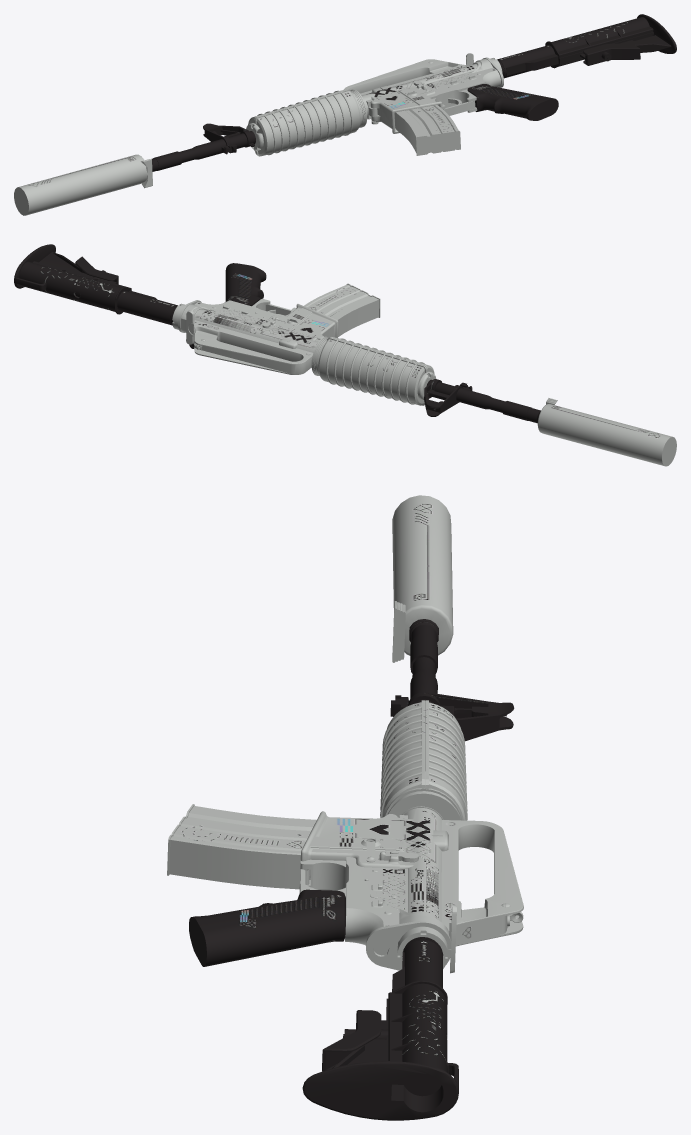
The model's file is csgo_cs2_m4a1.glb.
3 renders of one model, top to bottom at view 1: azimuth 30°, elevation 25°; view 2: azimuth 150°, elevation 25°; view 3: azimuth 270°, elevation 25°, orthographic. The views are drawn at different scales.
Parts seen in each view (by area): view 1: m4a1_s_1; view 2: m4a1_s_1; view 3: m4a1_s_1.
Part boxes in pixels (<box>): m4a1_s_1: <box>14,14,676,215</box>; m4a1_s_1: <box>14,244,676,466</box>; m4a1_s_1: <box>167,495,523,1120</box>.
Size of the model in its own units: 4.75 by 0.3523 by 1.17.
1 material, 1 textured.
